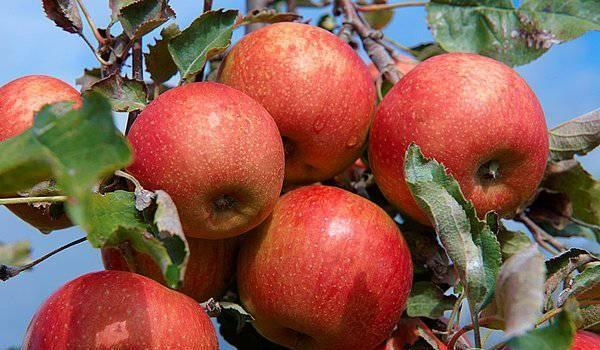apple: (365, 53, 546, 229), (233, 185, 412, 347), (212, 20, 377, 184), (123, 81, 285, 241), (17, 272, 219, 350), (1, 74, 98, 230)
